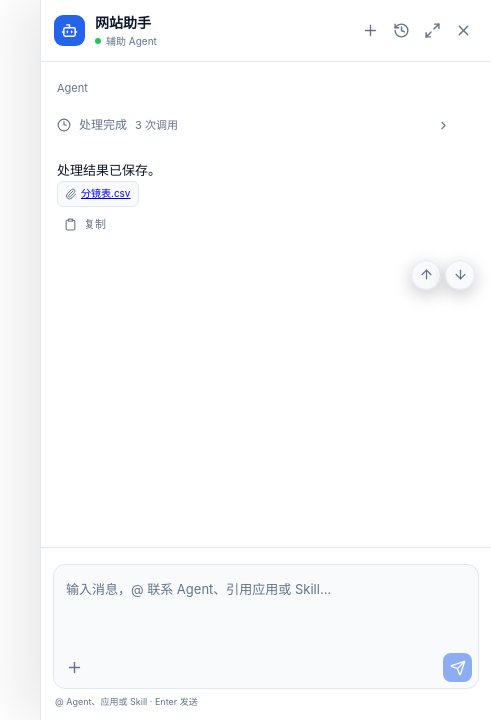
Test case: Agent execution timeline › places one collapsed record before the answer and keeps attachments accessible
The image size is (491, 720).
Expected: the text "搜索素材" is not shown
Expected: the text "处理结果已保存。" is shown, 57,162 -> 161,178
Click the button with aria-label "执行过程" at {"x": 103, "y": 124}, box 57,103 -> 450,147
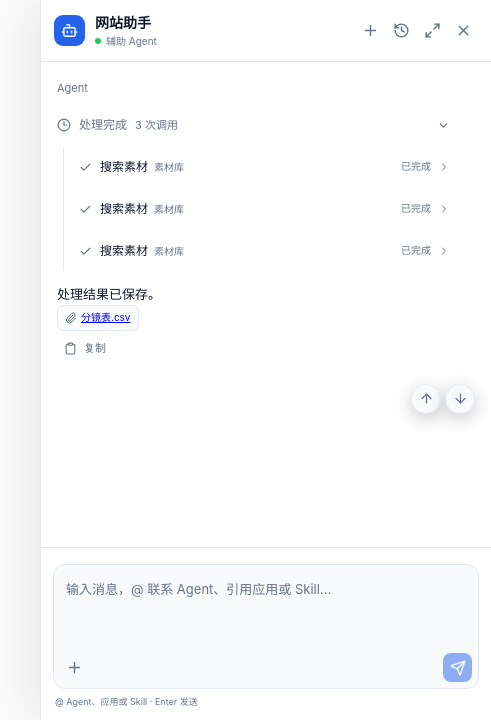
Result: the text "搜索素材" is shown 3 times at 100,158 -> 148,176; 100,200 -> 148,218; 100,242 -> 148,260
